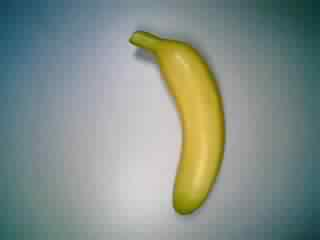banana: (128, 26, 230, 216)
